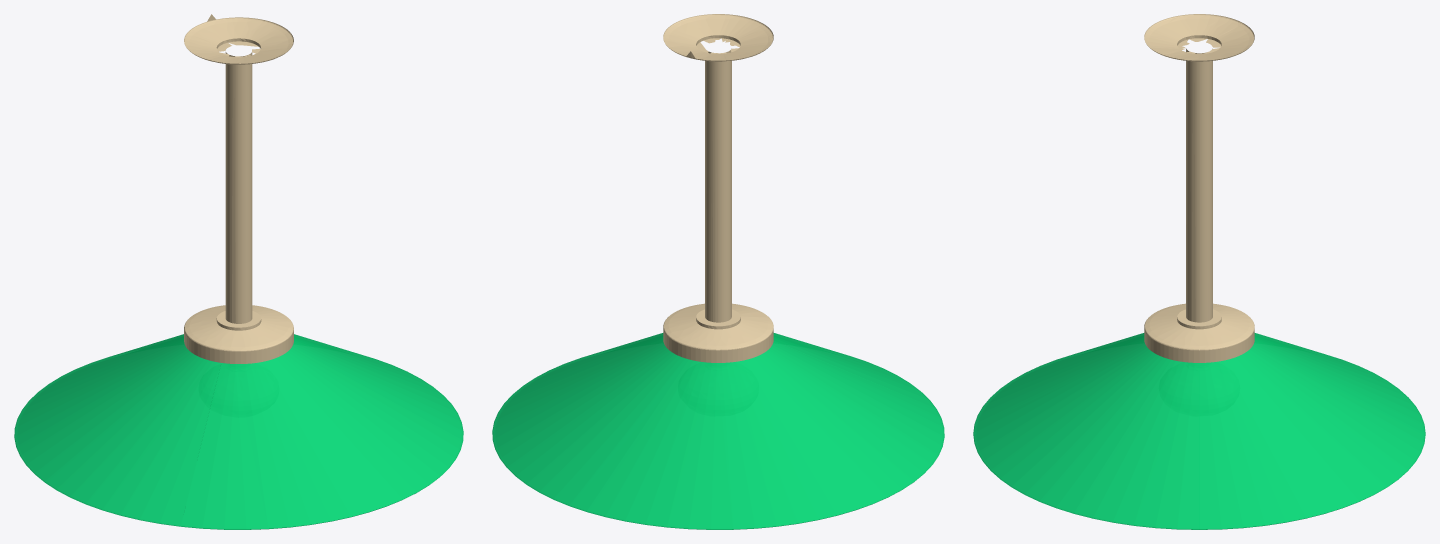
File: sh-kl-hanging-restaurant-light.glb
The picture shows the model from 3 angles, left to right: view 1: azimuth 30°, elevation 25°; view 2: azimuth 150°, elevation 25°; view 3: azimuth 270°, elevation 25°; orthographic projection.
Parts seen in each view (by area): view 1: Circle_Circle_Shade, Circle_Circle_Brass; view 2: Circle_Circle_Shade, Circle_Circle_Brass; view 3: Circle_Circle_Shade, Circle_Circle_Brass.
Boxes of the visible parts, x1=… form: Circle_Circle_Shade: x1=14, y1=334, x2=463, y2=529; Circle_Circle_Brass: x1=184, y1=14, x2=293, y2=363; Circle_Circle_Shade: x1=492, y1=333, x2=944, y2=529; Circle_Circle_Brass: x1=663, y1=14, x2=773, y2=362; Circle_Circle_Shade: x1=973, y1=333, x2=1425, y2=529; Circle_Circle_Brass: x1=1144, y1=14, x2=1254, y2=362.
Bounding box in the file's own units: 1 × 0.9855 × 1.
